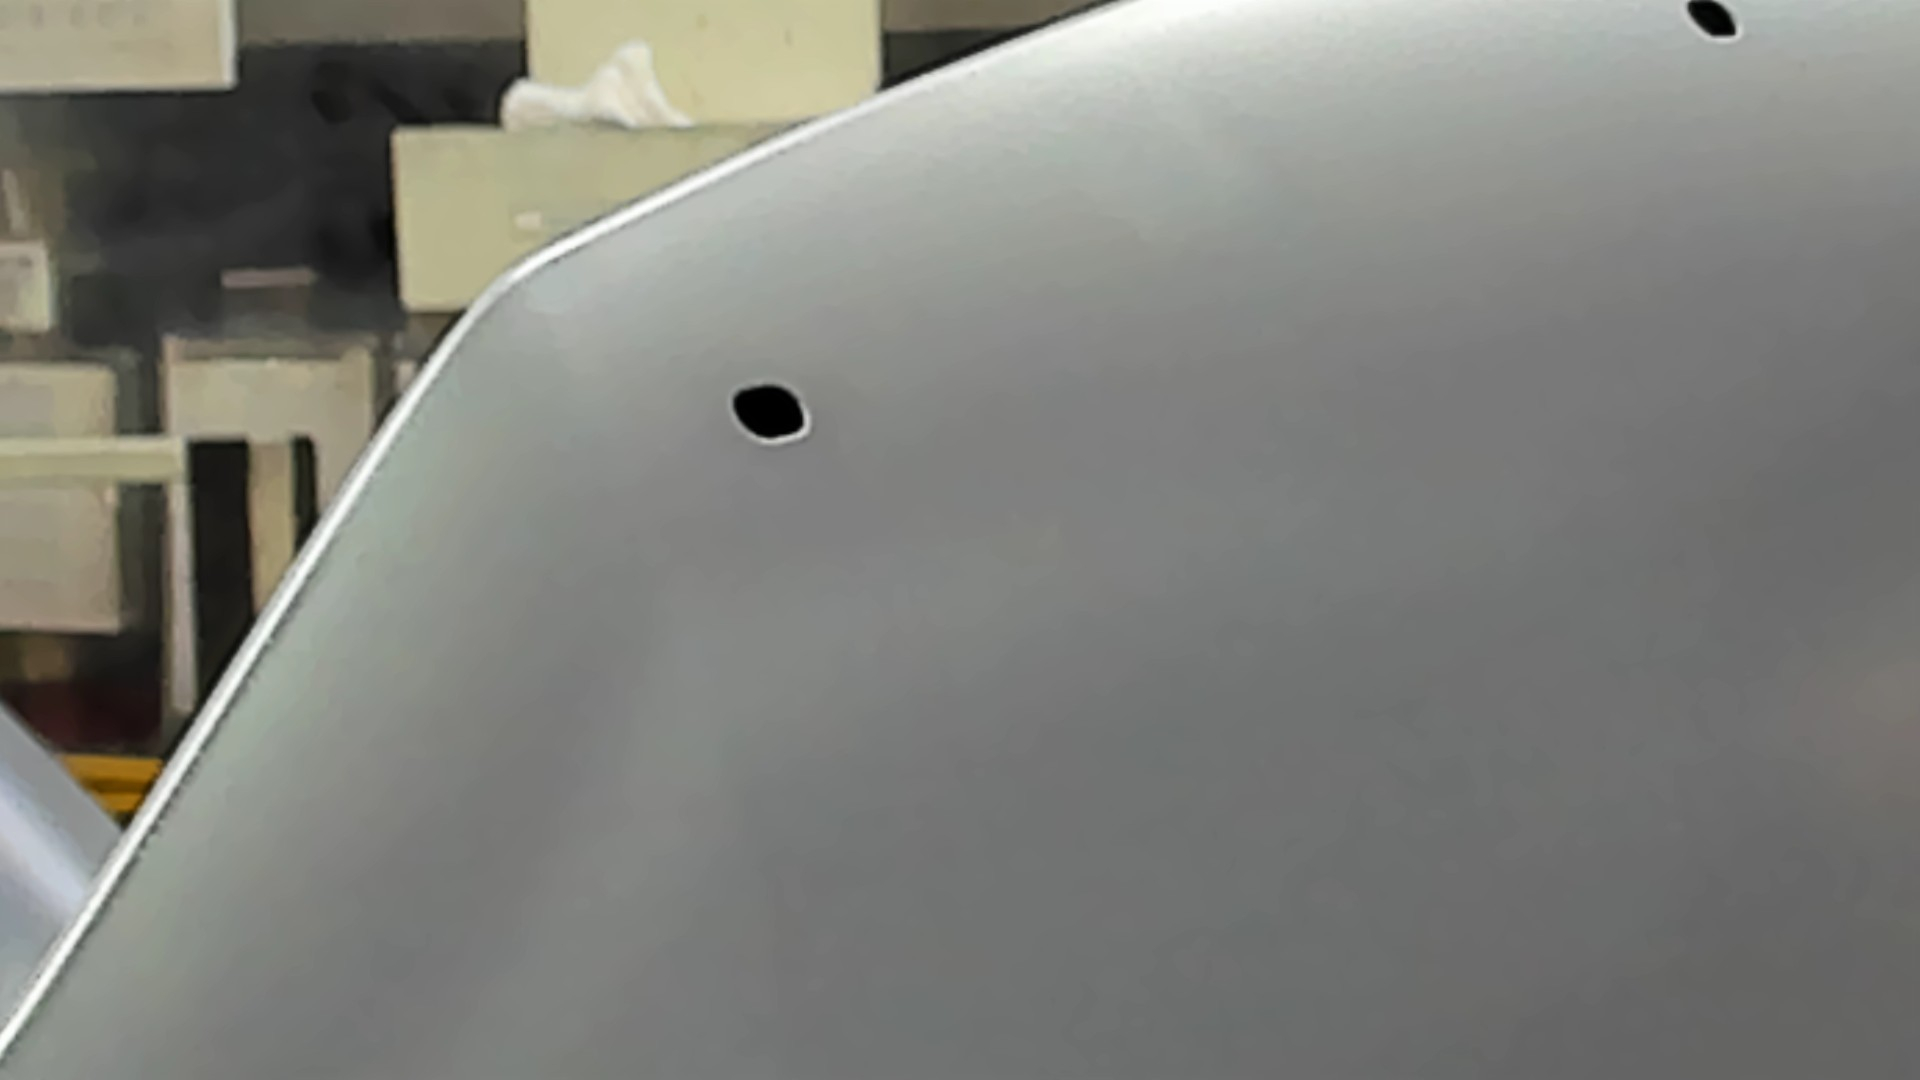amorfo: (720, 377, 823, 454), (1680, 1, 1746, 46)
